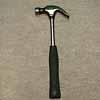hammer: (32, 2, 70, 99)
